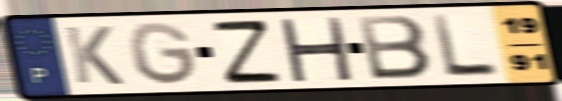B: (354, 14, 435, 82)
G: (125, 20, 201, 88)
H: (276, 17, 355, 82)
K: (61, 24, 128, 87)
L: (429, 13, 502, 80)
Z: (208, 17, 285, 86)
